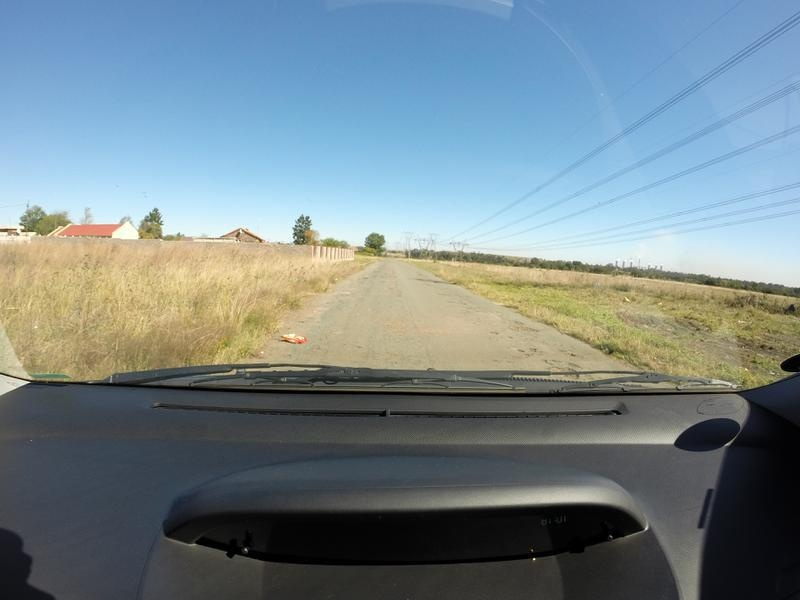pothole: (551, 365, 573, 376), (509, 328, 541, 333), (485, 330, 497, 340), (510, 317, 526, 324), (565, 351, 577, 359), (527, 344, 535, 349)
